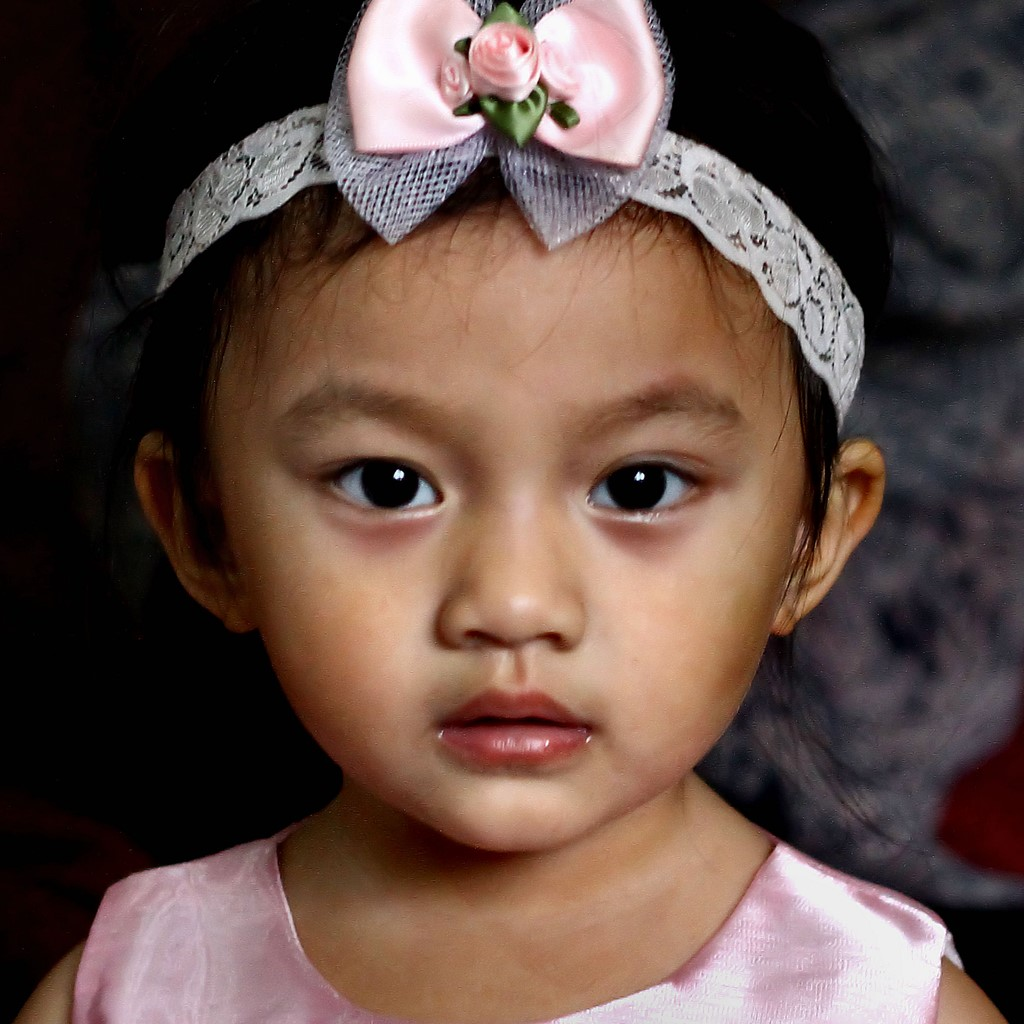sin_mascara: (193, 42, 814, 836)
